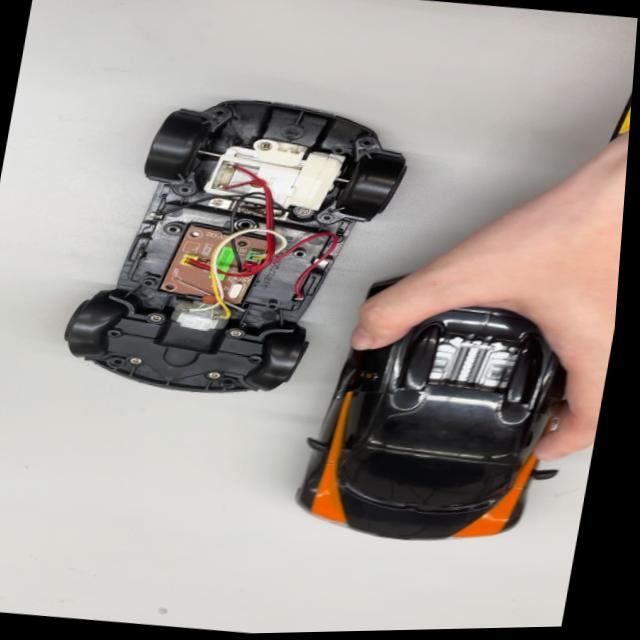Chassis: (36, 77, 432, 418)
vehicle_body: (288, 267, 593, 554)
